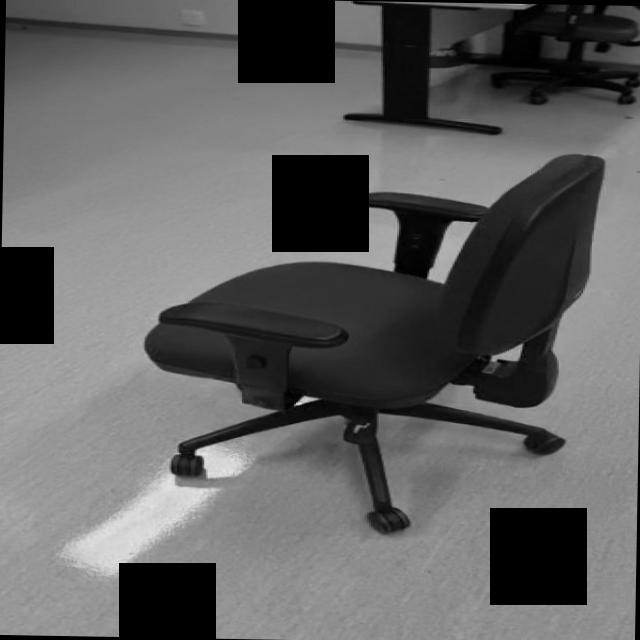chair: (140, 147, 604, 535)
